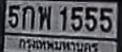1: (60, 6, 67, 30)
5: (84, 6, 98, 31), (100, 7, 113, 32), (71, 6, 83, 30), (8, 5, 20, 28)
A01: (22, 5, 35, 29)
A30: (38, 5, 52, 29)
BKK: (15, 36, 98, 52)
